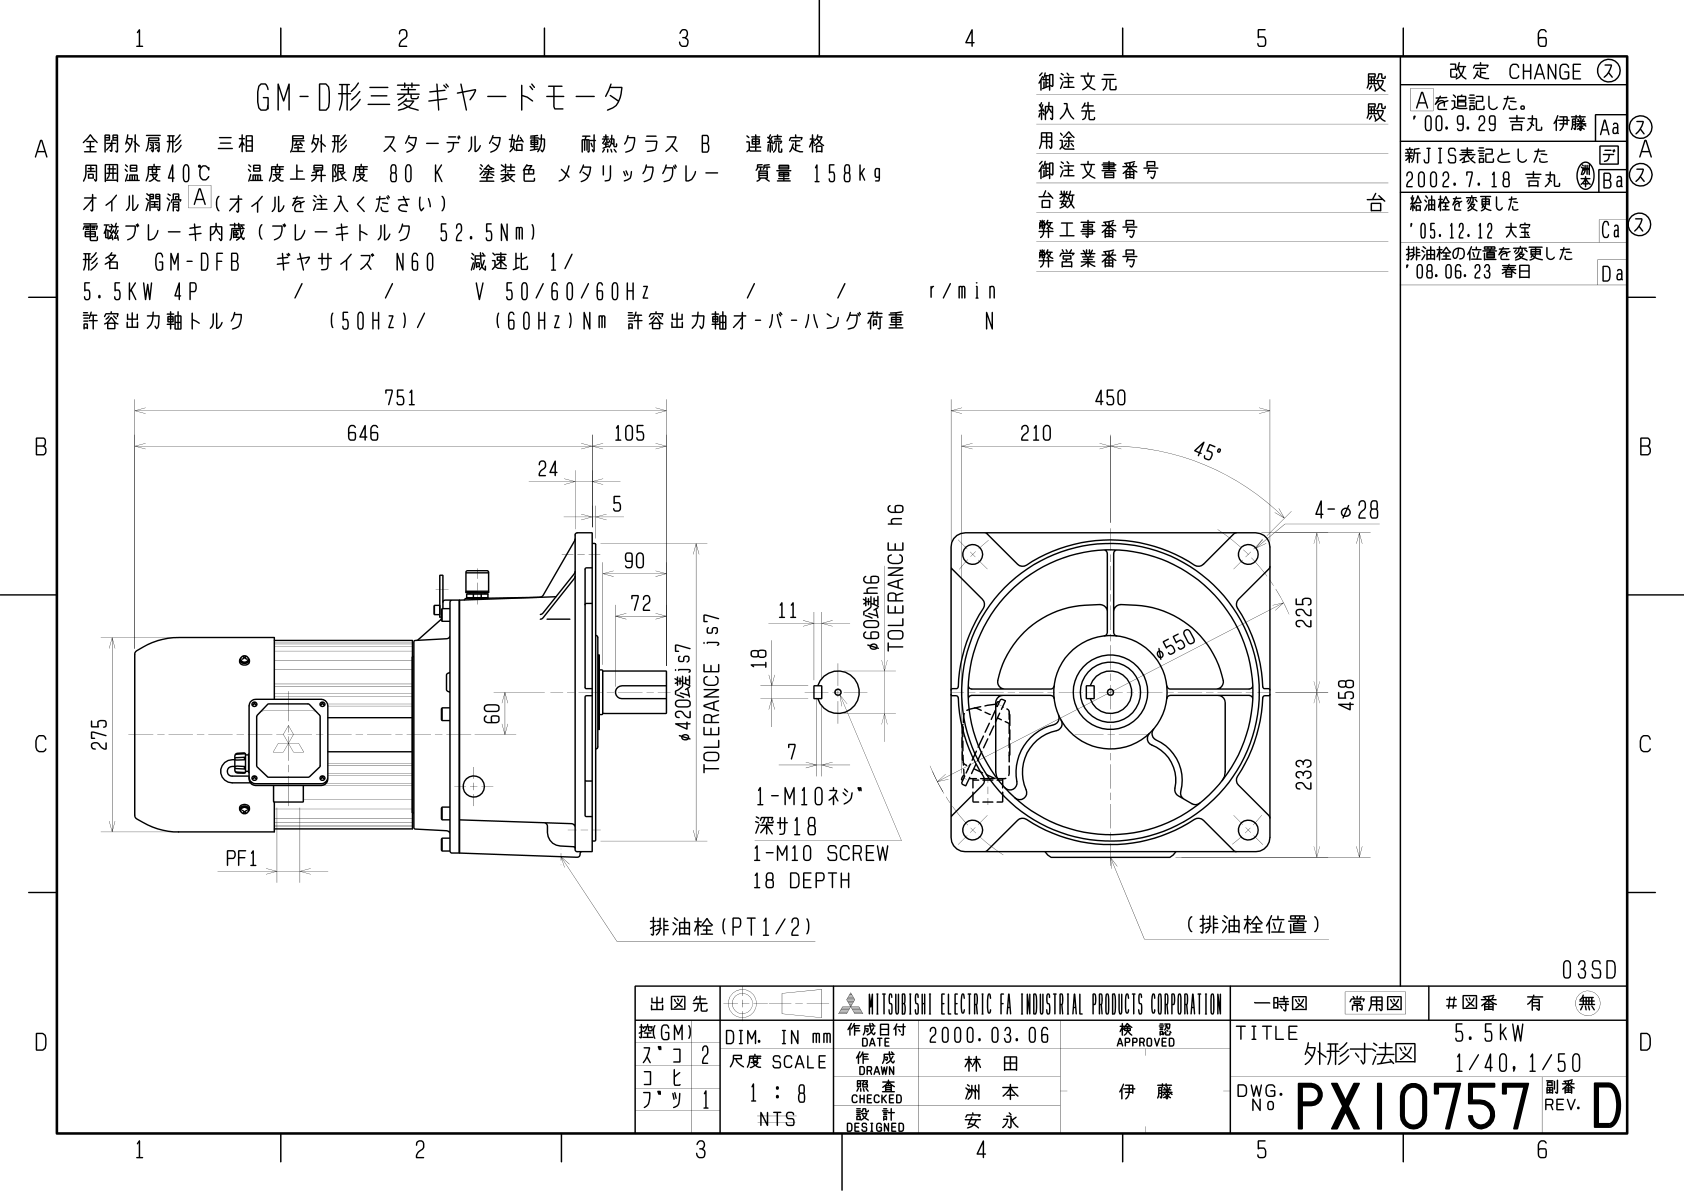GM_D_屋外＿三相_フランジ: (77, 354, 1397, 963)
